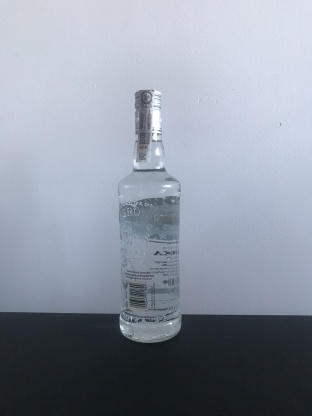nakretka: (132, 86, 164, 137)
